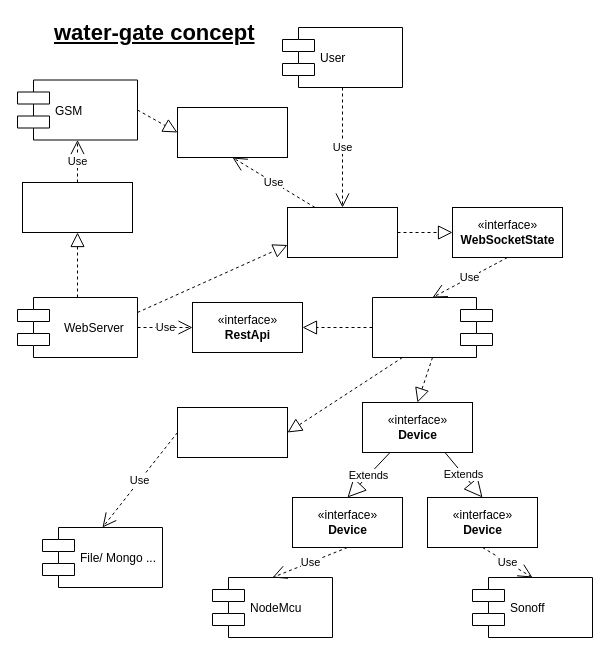
Some shapes in this 610 by 655 pixel diagram are drawn without their labels. The centre of each missing label's shape, as x and y in pixels:
Controller: point 432,327
«interface» ? sms, server, mail: point 232,132
«interface» Persistence: point 232,432
«interface» PWA/ SPA: point 342,232
«interface» Remote: point 77,207
